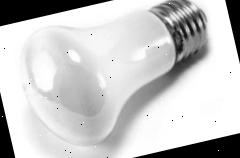lightbulb: (9, 0, 228, 157)
